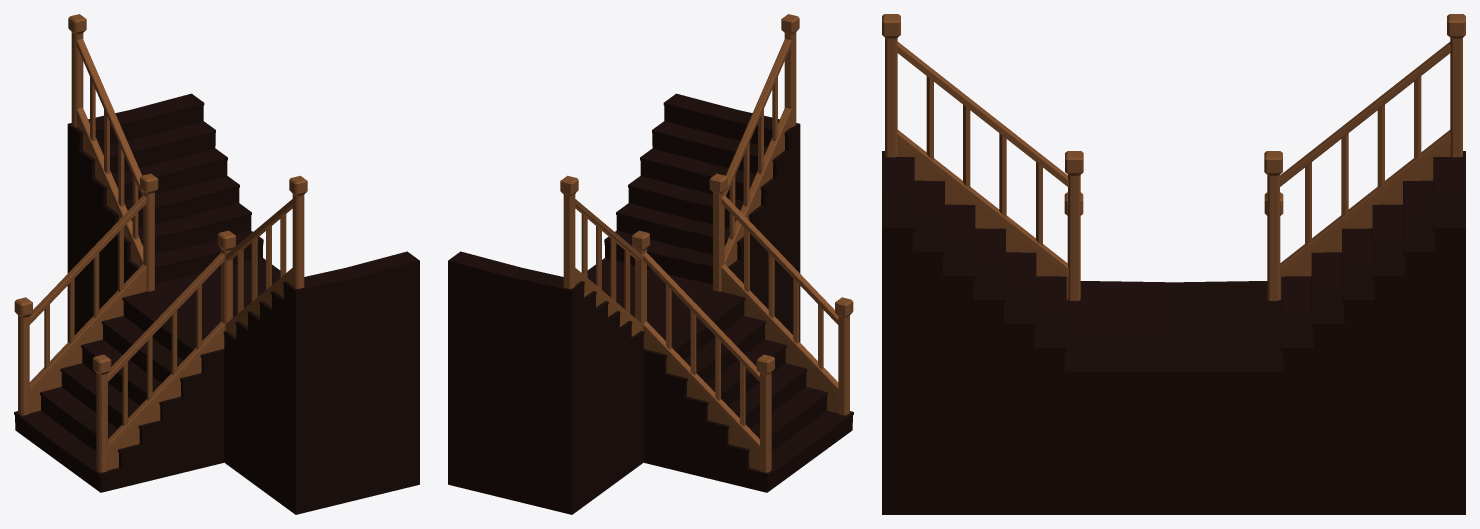
File: ww_big_staircase_a.glb
3 renders of one model, left to right at view 1: azimuth 30°, elevation 25°; view 2: azimuth 150°, elevation 25°; view 3: azimuth 270°, elevation 25°, orthographic. The views are drawn at different scales.
Parts seen in each view (by area): view 1: Big_Staircase_A; view 2: Big_Staircase_A; view 3: Big_Staircase_A.
Boxes of the visible parts, left/top/right/bottom form: Big_Staircase_A: left=14, top=14, right=419, bottom=514; Big_Staircase_A: left=448, top=14, right=853, bottom=514; Big_Staircase_A: left=882, top=14, right=1465, bottom=514.
Bounding box in the file's own units: 4.1 × 5.21 × 6.5.
